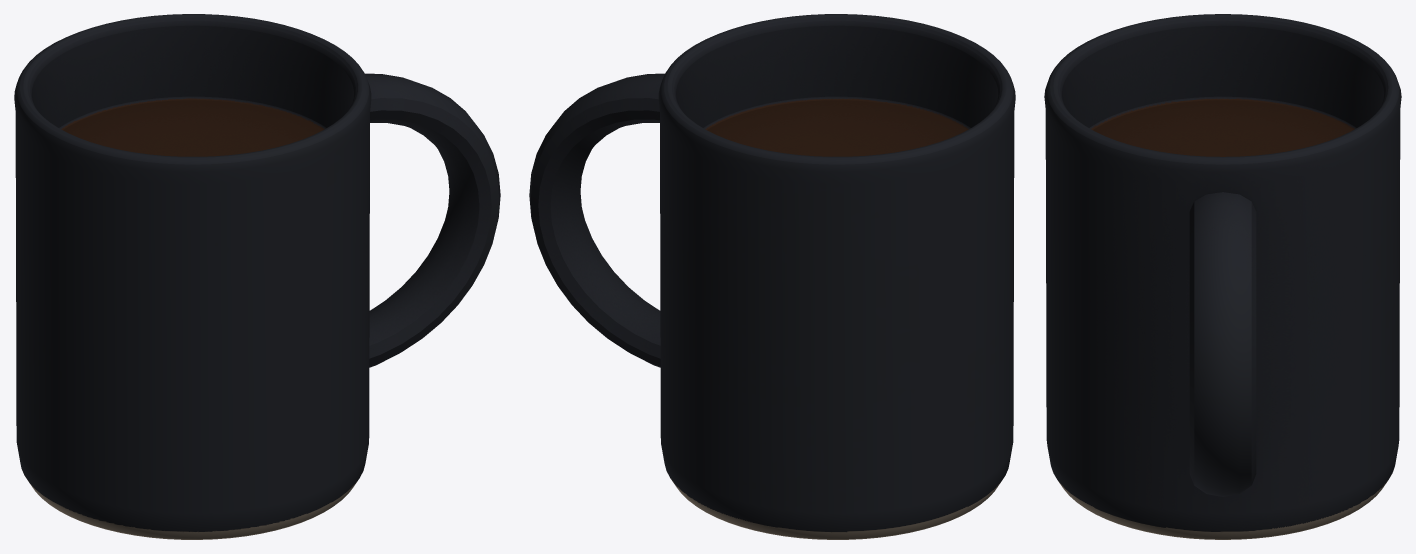
The picture shows the model from 3 angles, left to right: view 1: azimuth 30°, elevation 25°; view 2: azimuth 150°, elevation 25°; view 3: azimuth 270°, elevation 25°; orthographic projection.
Parts seen in each view (by area): view 1: studio-mug; view 2: studio-mug; view 3: studio-mug.
Boxes of the visible parts, x1,y1,x2,y2 form: studio-mug: (14,14,500,539); studio-mug: (529,14,1015,539); studio-mug: (1044,14,1401,539).
Bounding box in the file's own units: 0.119 × 0.0958 × 0.0806.
Materials: 1 (1 with a texture image).
